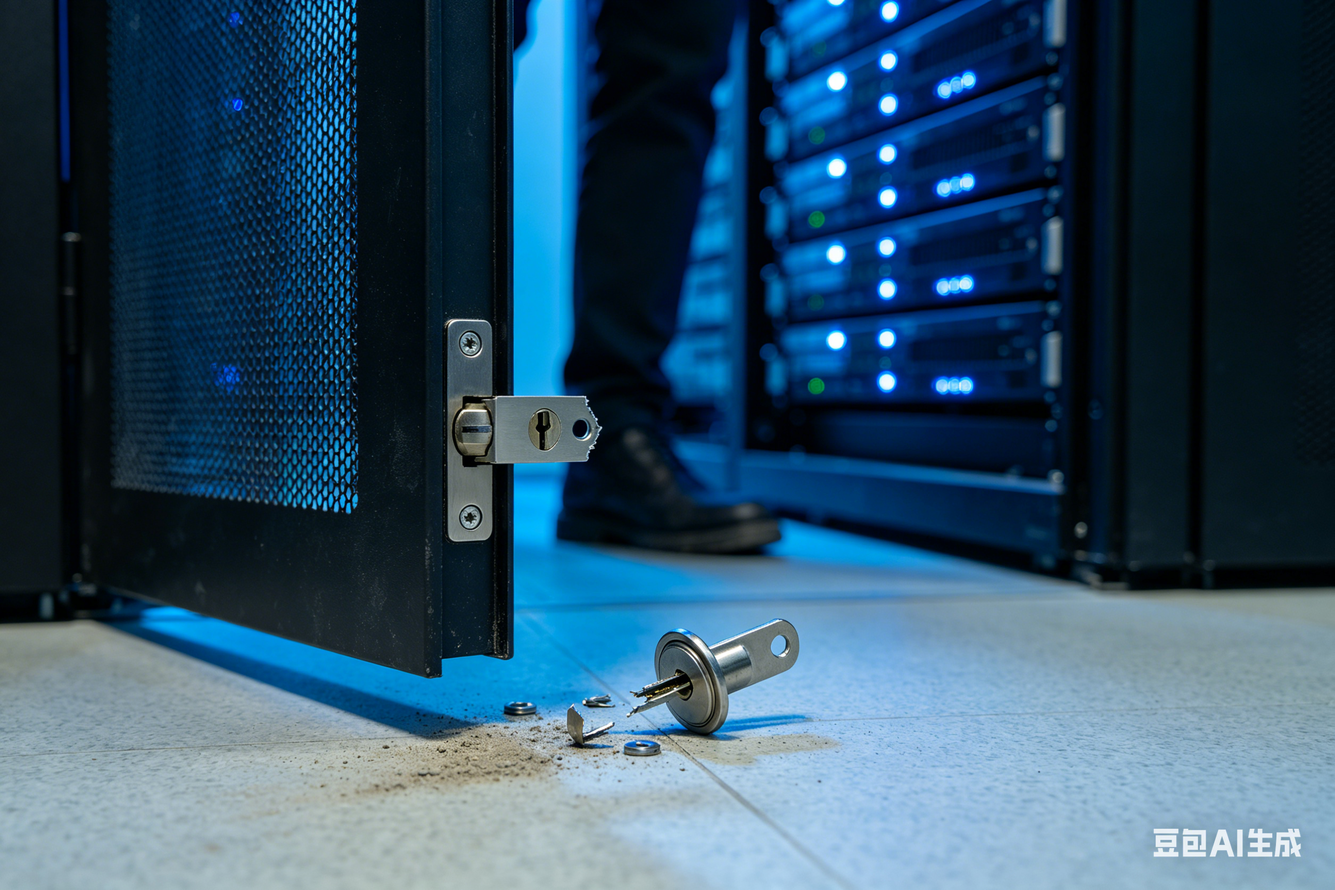BadLock: (452, 384, 617, 472), (565, 661, 716, 745)
